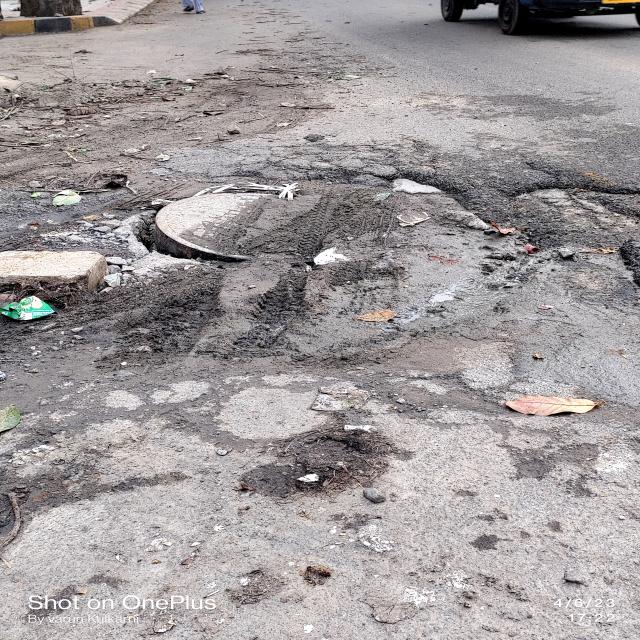potholes: (10, 153, 640, 364), (260, 433, 400, 502)
